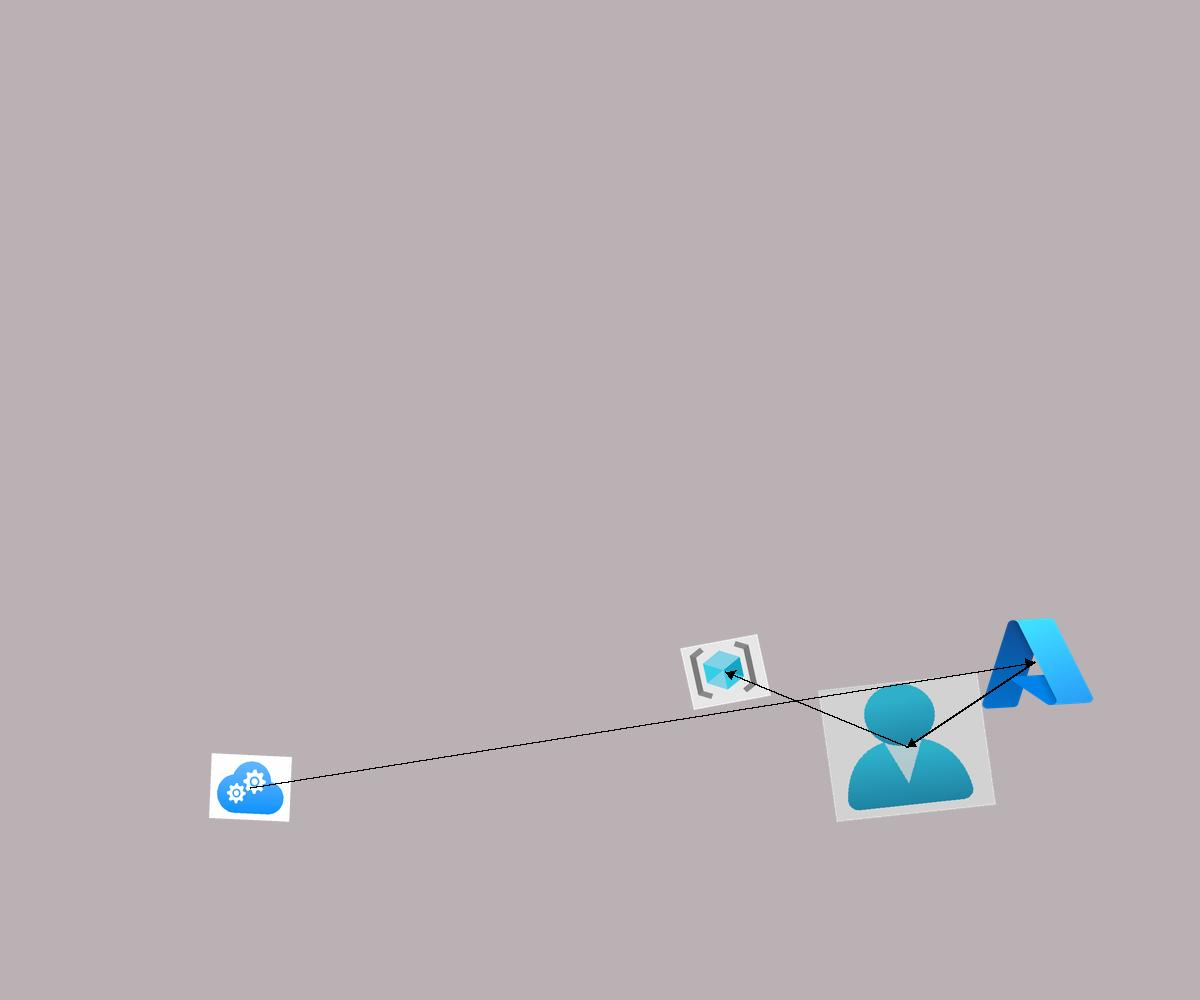Azure_cloud_services: (209, 753, 292, 822)
Azure_resource_group: (680, 634, 771, 710)
Azure_services: (970, 609, 1099, 716)
Azure_users: (818, 673, 996, 822)
